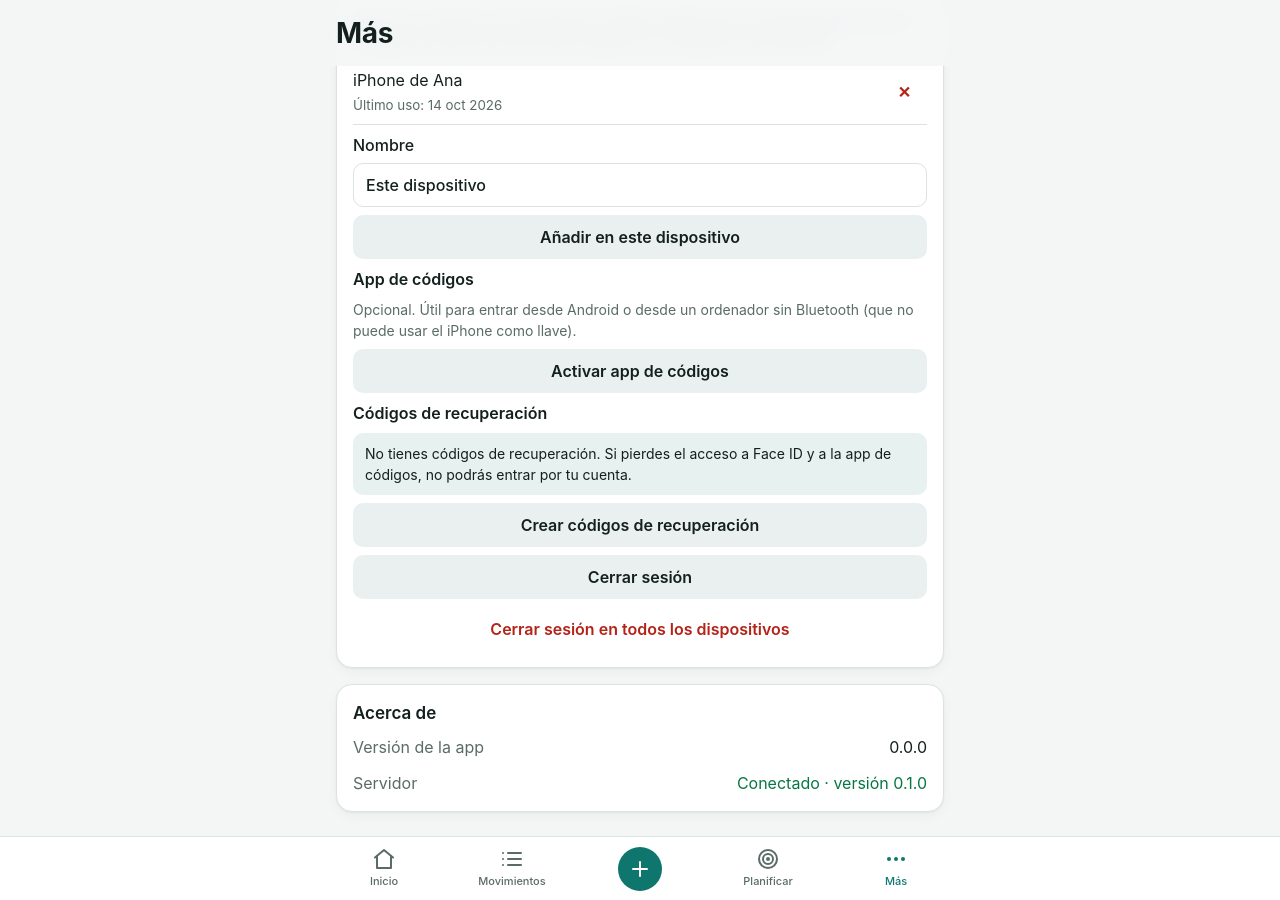
Test: security settings (Face ID first) › warns when there are no recovery codes and creates them without asking
(page scrolled)
Expected: the text "No tienes códigos de recuperación" is shown, [365,446,891,484]
Click the button "Crear códigos de recuperación" at (640, 526), box [353,504,927,548]
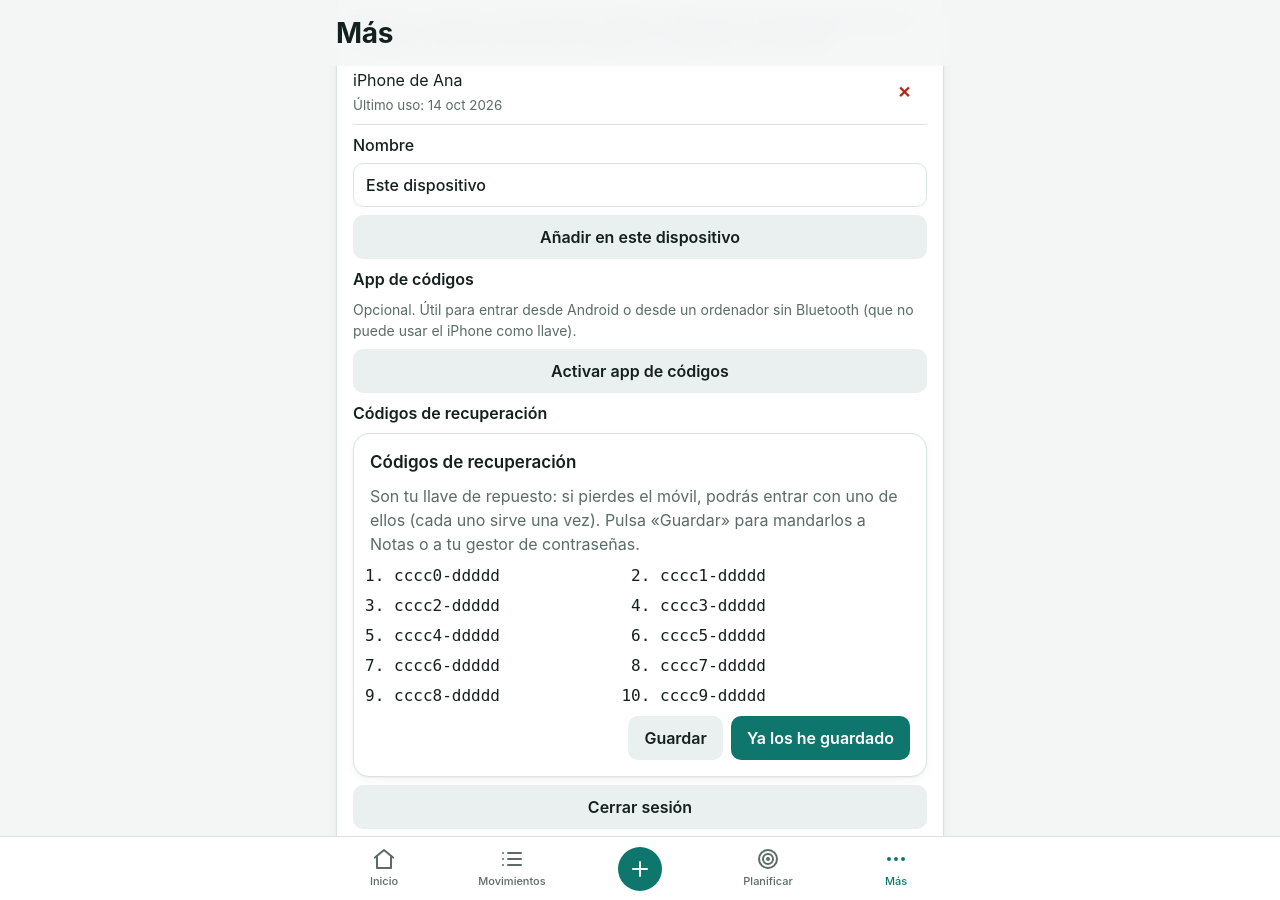
Result: the element "Códigos de recuperación" is shown at [353,434,927,777]
